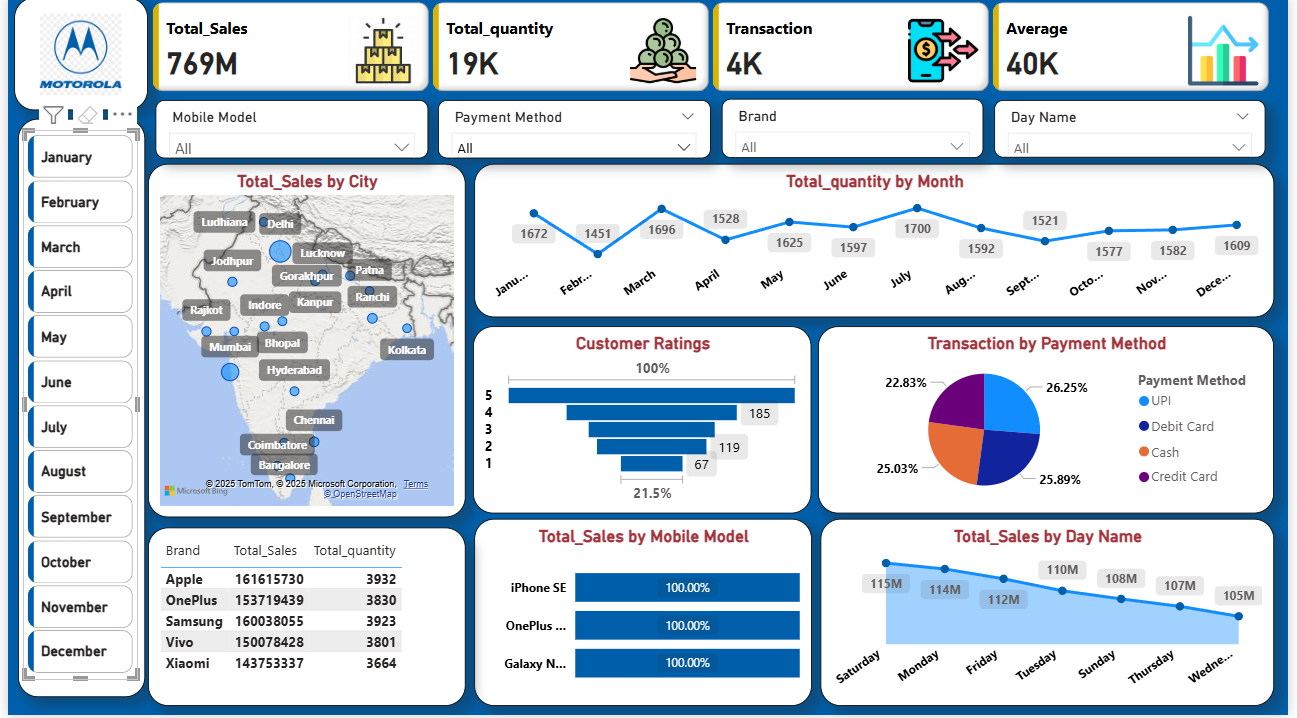

The page's visual inventory and layout, read from the dashboard file:
{"tool":"powerbi","page":{"name":"Dashboard","canvas":[1280,720],"ordinal":0},"visuals":[{"type":"shape","box":[6.2,2.5,133.8,112.5],"z":0},{"type":"image","box":[15,13.8,115,91.2],"z":1000},{"type":"shape","box":[10,123.8,127.5,578.8],"z":2000},{"type":"advancedSlicerVisual","fields":{"Values":["Mobile_sales_data.Date.Variation.Date Hierarchy.Month"]},"box":[15,135,115,550],"z":3000},{"type":"cardVisual","fields":{"Data":["sales_data.T.Total_Sales","sales_data.Total_quantity","sales_data.Transaction","sales_data.Average"]},"box":[139.9,2.4,1126.8,105],"z":4000},{"type":"map","fields":{"Category":["sales_data.City"]},"box":[141.2,170.1,317.3,353.5],"z":5000},{"type":"lineChart","fields":{"Category":["sales_data.Date.Variation.Date Hierarchy.Month","sales_data.Date.Variation.Date Hierarchy.Day"],"Y":["sales_data.Total_quantity"]},"box":[466.2,168.8,800,153.8],"z":6000},{"type":"hundredPercentStackedBarChart","fields":{"Category":["sales_data.Mobile Model"],"Y":["sales_data.Total_Sales"]},"box":[466.2,523.8,337.5,187.5],"z":7000},{"type":"pieChart","fields":{"Category":["sales_data.Payment Method"],"Y":["sales_data.Transaction"]},"box":[810,331.2,456.2,187.5],"z":8000},{"type":"funnel","title":" Customer Ratings ","fields":{"Category":["sales_data.Customer Ratings"],"Y":["CountNonNull(sales_data.Customer Ratings)"]},"box":[464.5,331.8,339,187],"z":9000},{"type":"areaChart","fields":{"Category":["sales_data.Day Name"],"Y":["sales_data.Total_Sales"]},"box":[812.5,523.8,453.8,187.5],"z":10000},{"type":"tableEx","fields":{"Values":["sales_data.Brand","sales_data.Total_Sales","sales_data.Total_quantity"]},"box":[140,532.5,317.5,178.8],"z":11000},{"type":"slicer","fields":{"Values":["sales_data.Mobile Model"]},"box":[148,105,273,58],"z":12000},{"type":"slicer","fields":{"Values":["sales_data.Payment Method"]},"box":[430,105,272.5,58.8],"z":13000},{"type":"slicer","fields":{"Values":["sales_data.Brand"]},"box":[714.2,103.8,261.8,59.1],"z":14000},{"type":"slicer","fields":{"Values":["sales_data.Day Name"]},"box":[986.2,105,271.2,57.5],"z":15000}]}

Visuals, with their boxes in screenshot pixels (x1, y1, x2, y2), scaled from the page's 1280x720 canvas onto the 1297x718 screenshot:
shape: region(6, 2, 142, 115)
image: region(15, 14, 132, 105)
shape: region(10, 123, 139, 701)
advancedSlicerVisual - Mobile_sales_data.Date.Variation.Date Hierarchy.Month: region(15, 135, 132, 683)
cardVisual - sales_data.T.Total_Sales x sales_data.Total_quantity: region(142, 2, 1284, 107)
map - sales_data.City: region(143, 170, 465, 522)
lineChart - sales_data.Date.Variation.Date Hierarchy.Month x sales_data.Date.Variation.Date Hierarchy.Day: region(472, 168, 1283, 322)
hundredPercentStackedBarChart - sales_data.Mobile Model x sales_data.Total_Sales: region(472, 522, 814, 709)
pieChart - sales_data.Payment Method x sales_data.Transaction: region(821, 330, 1283, 517)
" Customer Ratings " funnel: region(471, 331, 814, 517)
areaChart - sales_data.Day Name x sales_data.Total_Sales: region(823, 522, 1283, 709)
tableEx - sales_data.Brand x sales_data.Total_Sales: region(142, 531, 464, 709)
slicer - sales_data.Mobile Model: region(150, 105, 427, 163)
slicer - sales_data.Payment Method: region(436, 105, 712, 163)
slicer - sales_data.Brand: region(724, 104, 989, 162)
slicer - sales_data.Day Name: region(999, 105, 1274, 162)
